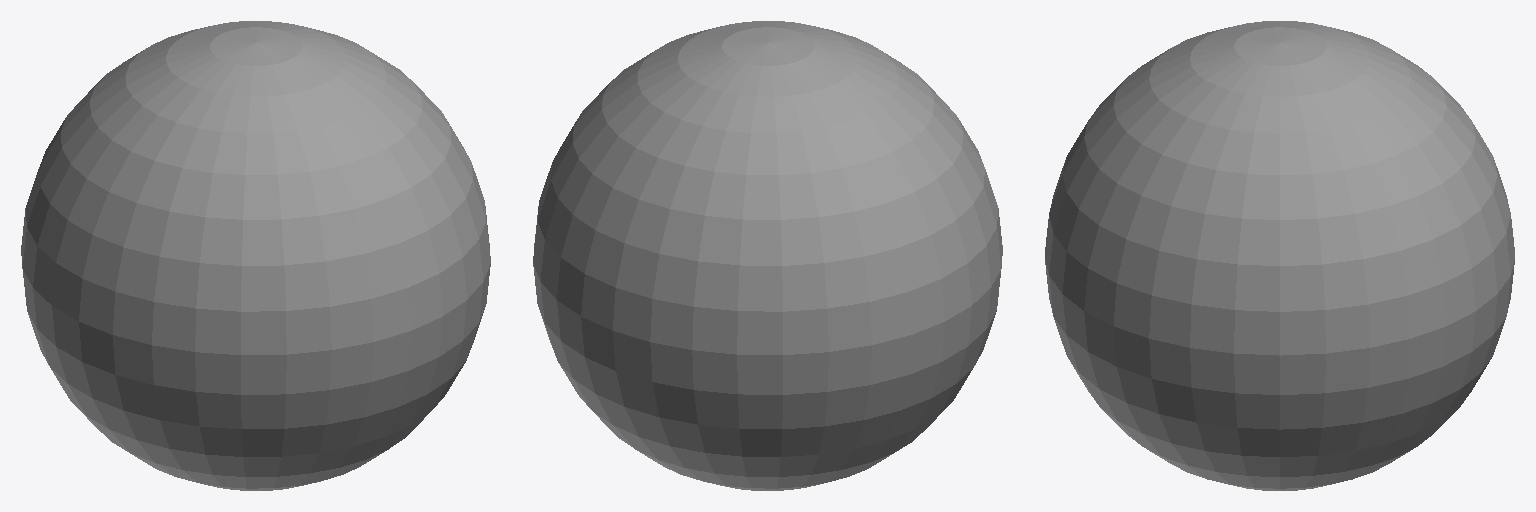
Rendered from sphere_init.obj.
3 views of the same model, side by side, from view 1: azimuth 30°, elevation 25°; view 2: azimuth 150°, elevation 25°; view 3: azimuth 270°, elevation 25° (orthographic).
Parts seen in each view (by area): view 1: Sphere; view 2: Sphere; view 3: Sphere.
Boxes of the visible parts, x1,y1,x2,y2 form: Sphere: [21, 21, 490, 490]; Sphere: [533, 21, 1002, 490]; Sphere: [1045, 21, 1514, 490].
Size of the model in its own units: 0.3 by 0.3 by 0.3.